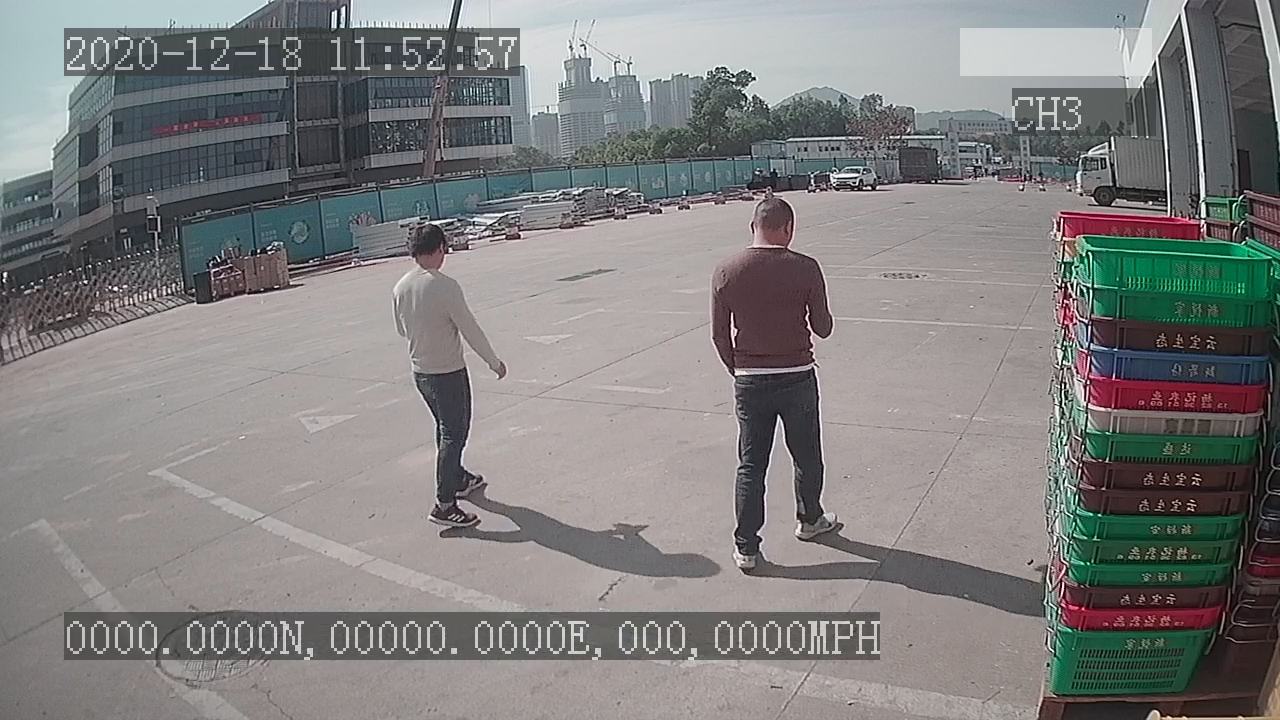person: (697, 188, 856, 574), (379, 213, 508, 542)
